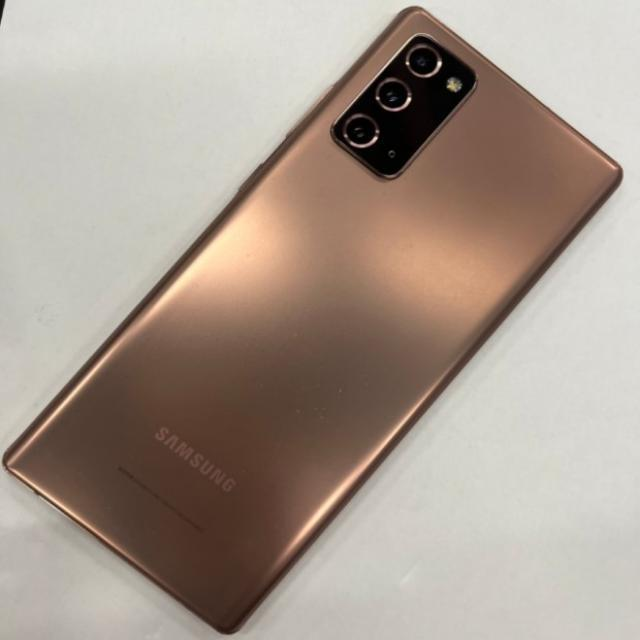Mobile: (19, 7, 635, 635)
